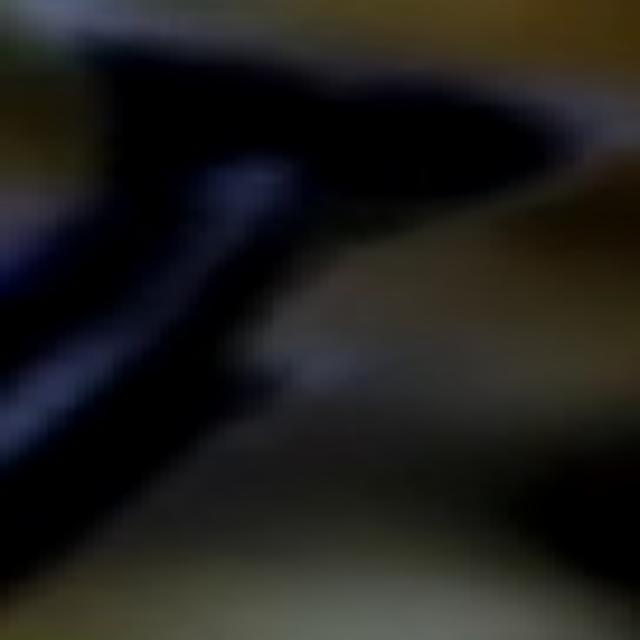fish: (9, 3, 639, 640)
